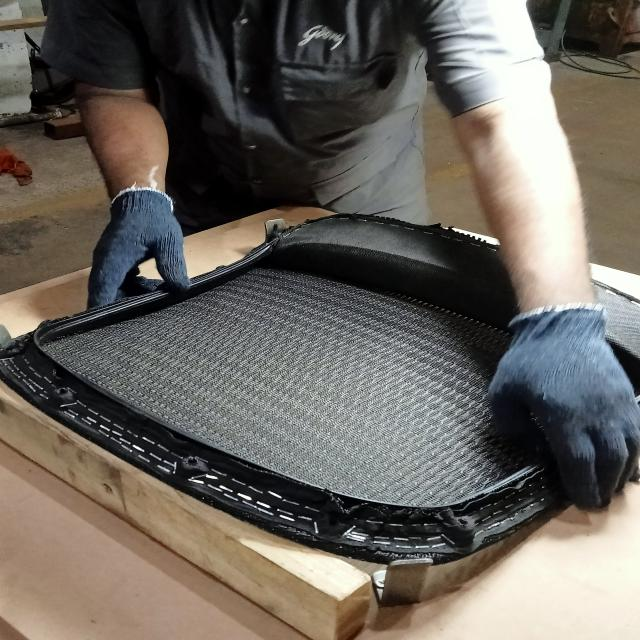Gloves-Detection: (493, 305, 640, 501), (83, 184, 197, 312)
